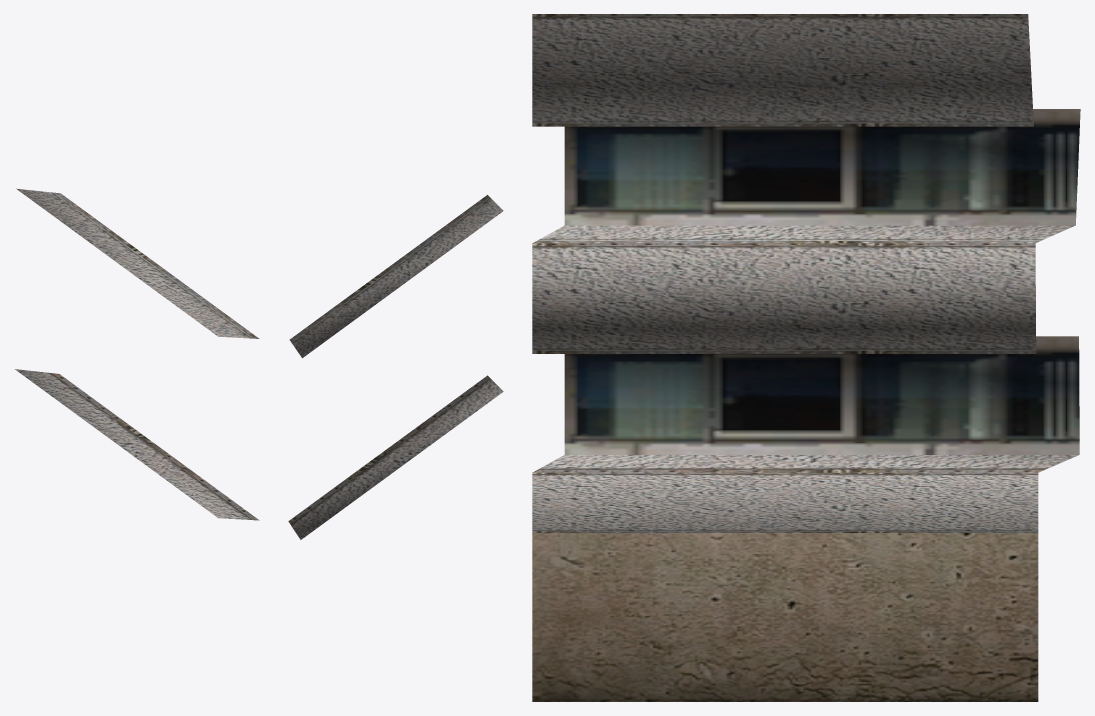
Rendered from M11Z1_TownWall043.glb.
The picture shows the model from 3 angles, left to right: view 1: azimuth 30°, elevation 25°; view 2: azimuth 150°, elevation 25°; view 3: azimuth 270°, elevation 25°; orthographic projection. The views are drawn at different scales.
Visible parts, largest first — view 1: M11Z1_TOWNWALL043; view 2: M11Z1_TOWNWALL043; view 3: M11Z1_TOWNWALL043.
Part boxes in pixels (box(x1,y1,x2,y2)): M11Z1_TOWNWALL043: box(15, 188, 259, 520); M11Z1_TOWNWALL043: box(288, 195, 503, 539); M11Z1_TOWNWALL043: box(532, 14, 1080, 701).
Size of the model in its own units: 0.666 by 12 by 8.67.
Materials: 3 (3 with a texture image).
